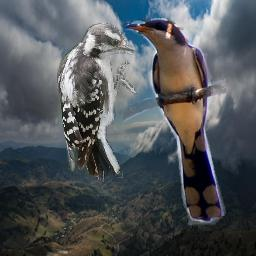Cuckoo: (123, 18, 226, 225)
Woodpecker: (57, 23, 138, 182)
